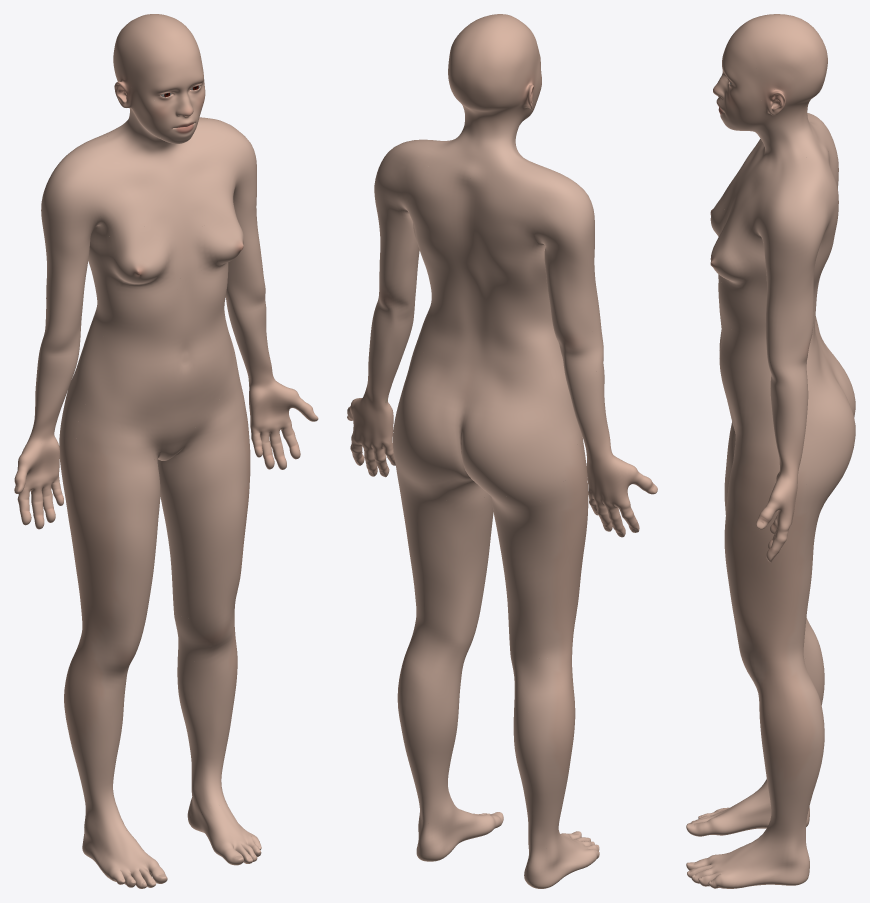
The model's file is female.glb.
The picture shows the model from 3 angles, left to right: view 1: azimuth 30°, elevation 25°; view 2: azimuth 150°, elevation 25°; view 3: azimuth 270°, elevation 25°; orthographic projection. The views are drawn at different scales.
Parts seen in each view (by area): view 1: Skin_Thigh_R, Skin_Abdomen, Skin_Thigh_L, Skin_Chest, Skin_Leg_L, Skin_Leg_R, Skin_Shoulder_R, Skin_Breast_R, Skin_Scalp, Skin_Neck, Skin_Face, Skin_Hand_L (+16 smaller); view 2: Skin_Back, Skin_Thigh_R, Skin_Buttock_R, Skin_Thigh_L, Skin_Buttock_L, Skin_Scalp, Skin_Leg_L, Skin_Lumbar, Skin_Leg_R, Skin_Shoulder_R, Skin_Neck, Skin_Arm_R (+14 smaller); view 3: Skin_Thigh_L, Skin_Leg_L, Skin_Shoulder_L, Skin_Scalp, Skin_Buttock_L, Skin_Abdomen, Skin_Foot_L, Skin_Arm_L, Skin_Neck, Skin_Chest, Skin_Knee_L, Skin_Forearm_L (+13 smaller).
Boxes of the visible parts, <box> form: Skin_Thigh_R: <box>59,395,168,649</box>; Skin_Abdomen: <box>78,258,236,447</box>; Skin_Thigh_L: <box>160,362,250,625</box>; Skin_Chest: <box>85,163,240,334</box>; Skin_Leg_L: <box>177,649,237,809</box>; Skin_Leg_R: <box>64,675,127,832</box>; Skin_Shoulder_R: <box>41,135,131,241</box>; Skin_Breast_R: <box>103,222,175,302</box>; Skin_Scalp: <box>113,14,200,115</box>; Skin_Neck: <box>99,108,208,184</box>; Skin_Face: <box>125,58,205,142</box>; Skin_Hand_L: <box>249,382,318,469</box>; Skin_Back: <box>411,166,552,330</box>; Skin_Thigh_R: <box>491,421,588,658</box>; Skin_Buttock_R: <box>461,369,581,501</box>; Skin_Thigh_L: <box>394,458,493,637</box>; Skin_Buttock_L: <box>393,342,471,482</box>; Skin_Scalp: <box>448,14,537,119</box>; Skin_Leg_L: <box>397,672,461,826</box>; Skin_Lumbar: <box>417,301,564,381</box>; Skin_Leg_R: <box>513,703,575,851</box>; Skin_Shoulder_R: <box>507,161,594,261</box>; Skin_Neck: <box>428,108,530,185</box>; Skin_Arm_R: <box>544,245,600,339</box>; Skin_Thigh_L: <box>724,411,841,664</box>; Skin_Leg_L: <box>751,701,824,851</box>; Skin_Shoulder_L: <box>752,157,837,268</box>; Skin_Scalp: <box>726,14,827,121</box>; Skin_Buttock_L: <box>769,348,855,496</box>; Skin_Abdomen: <box>718,274,772,425</box>; Skin_Foot_L: <box>686,840,809,888</box>; Skin_Arm_L: <box>765,257,815,348</box>; Skin_Neck: <box>725,103,829,186</box>; Skin_Chest: <box>718,145,766,329</box>; Skin_Knee_L: <box>739,649,820,714</box>; Skin_Forearm_L: <box>770,379,808,481</box>.
Size of the model in its own units: 0.6009 by 1.58 by 0.2882.
9 materials, 8 textured.
